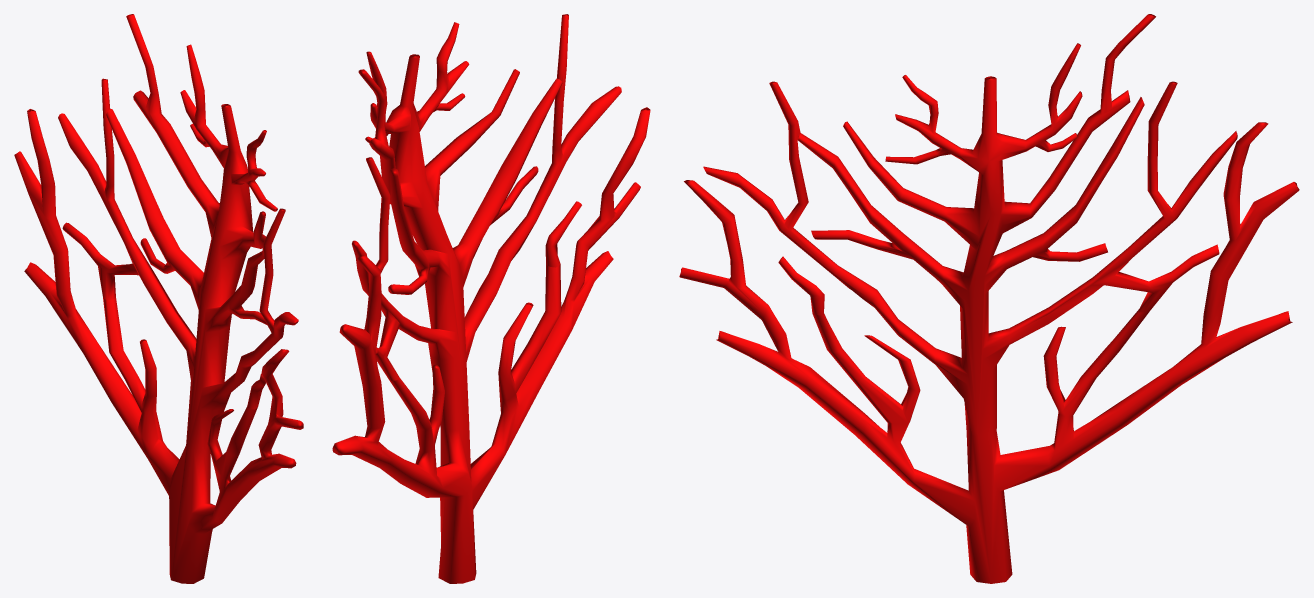
File: red_coral.fbx
3 views of the same model, side by side, from view 1: azimuth 30°, elevation 25°; view 2: azimuth 150°, elevation 25°; view 3: azimuth 270°, elevation 25° (orthographic). The views are drawn at different scales.
Visible parts, largest first — view 1: pCube26; view 2: pCube26; view 3: pCube26.
Boxes of the visible parts, x1=… form: pCube26: x1=14, y1=14, x2=303, y2=583; pCube26: x1=332, y1=14, x2=650, y2=583; pCube26: x1=679, y1=14, x2=1299, y2=583.
Size of the model in its own units: 0.5518 by 2.47 by 2.43.
Materials: 1 (1 with a texture image).
